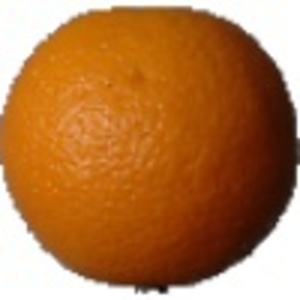laranja: (2, 2, 295, 293)
